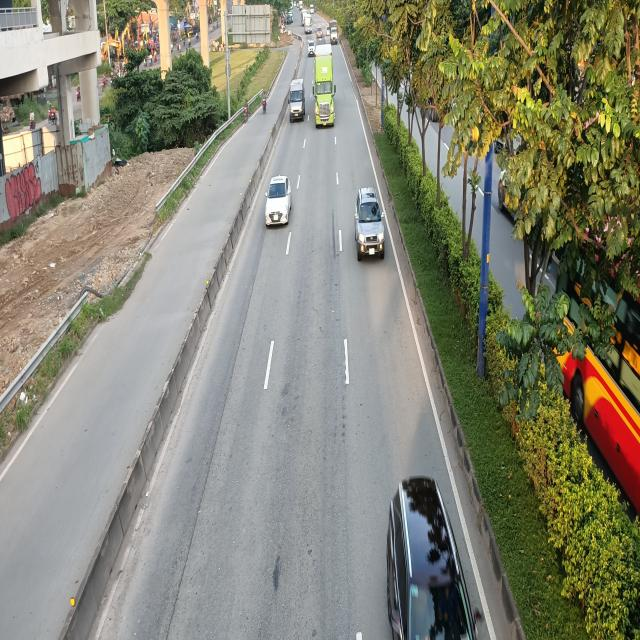car: (387, 476, 488, 639), (353, 187, 385, 260), (265, 176, 292, 228)
container: (314, 43, 336, 130)
van: (287, 79, 305, 124)
